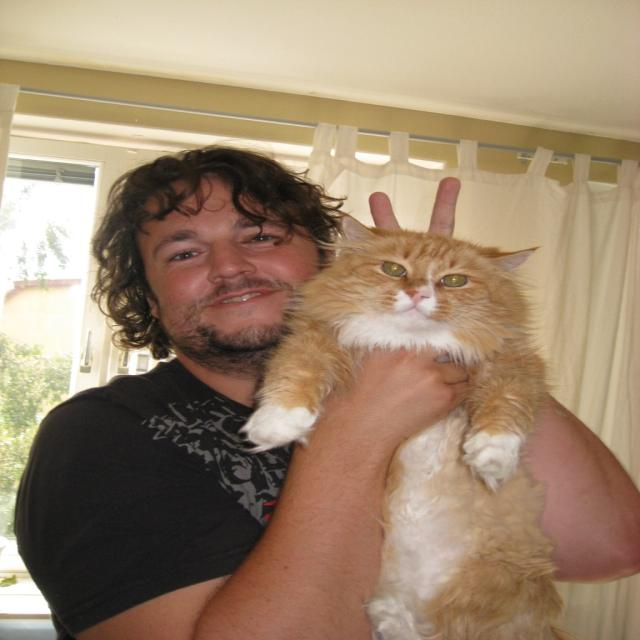Cat: (236, 214, 567, 639)
